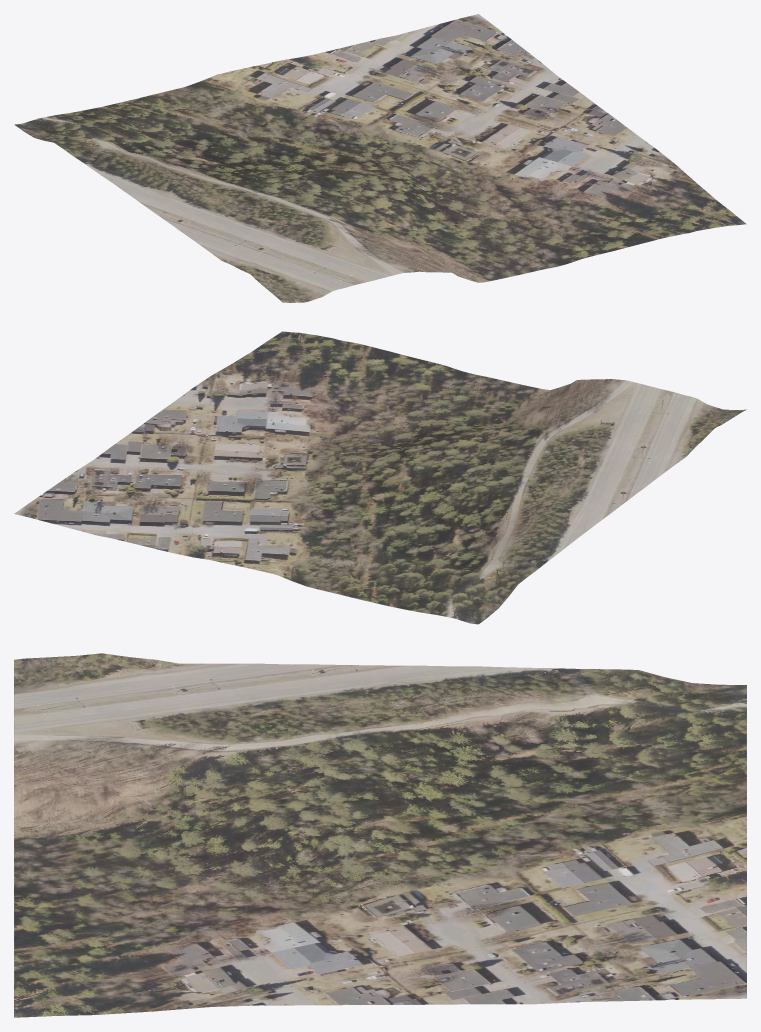
Rendered from CM_Terrain_24491687_6816927.fbx.
3 views of the same model, one above another, from view 1: azimuth 30°, elevation 25°; view 2: azimuth 150°, elevation 25°; view 3: azimuth 270°, elevation 25° (orthographic). The views are drawn at different scales.
Parts seen in each view (by area): view 1: CM_Terrain_24491687_6816927_LOD0; view 2: CM_Terrain_24491687_6816927_LOD0; view 3: CM_Terrain_24491687_6816927_LOD0.
Boxes of the visible parts, left/top/right/bottom form: CM_Terrain_24491687_6816927_LOD0: left=14, top=14, right=746, bottom=302; CM_Terrain_24491687_6816927_LOD0: left=14, top=331, right=746, bottom=624; CM_Terrain_24491687_6816927_LOD0: left=14, top=653, right=746, bottom=1017.
Size of what is drawn, in the model's own units: 205 by 16.87 by 205.
